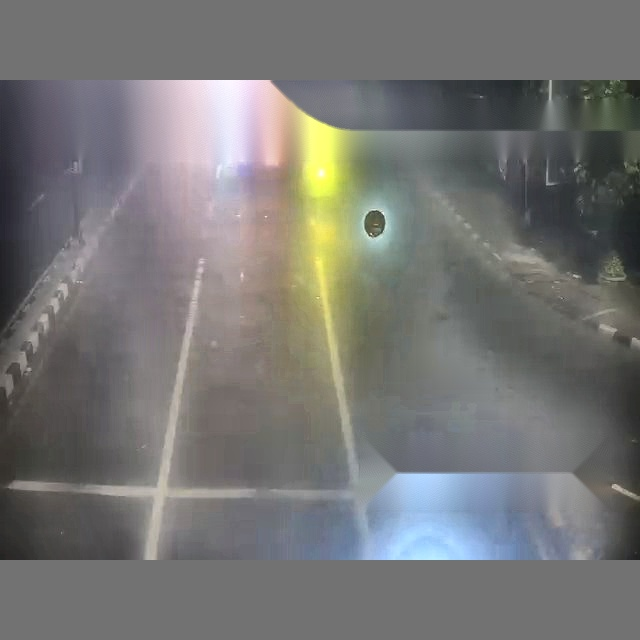Bis: (358, 473, 615, 558)
